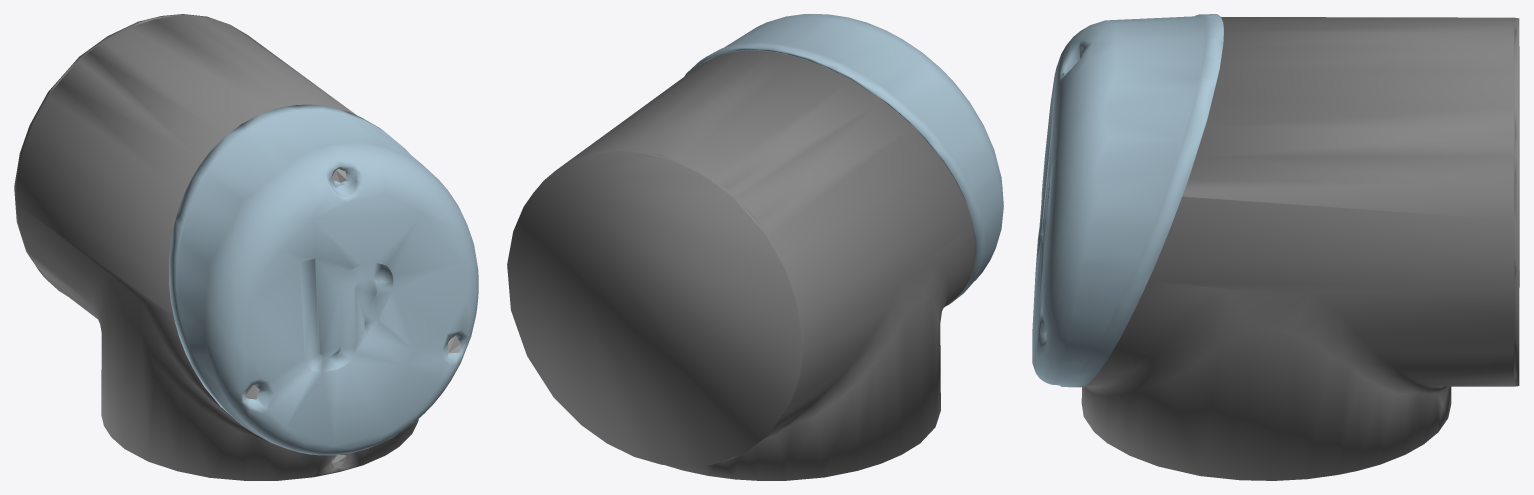
The model's file is wrist2.dae.
The picture shows the model from 3 angles, left to right: view 1: azimuth 30°, elevation 25°; view 2: azimuth 150°, elevation 25°; view 3: azimuth 270°, elevation 25°; orthographic projection. The views are drawn at different scales.
Visible parts, largest first — view 1: node-shape1-name, node-shape0-name, node-shape2-name; view 2: node-shape0-name, node-shape1-name; view 3: node-shape0-name, node-shape1-name.
Boxes of the visible parts, x1,y1,x2,y2 form: node-shape1-name: [169, 104, 478, 455]; node-shape0-name: [14, 14, 418, 480]; node-shape2-name: [245, 169, 460, 468]; node-shape0-name: [507, 50, 975, 480]; node-shape1-name: [684, 14, 1003, 305]; node-shape0-name: [1081, 17, 1519, 480]; node-shape1-name: [1032, 14, 1223, 387].
Bounding box in the file's own units: 0.0909 × 0.1187 × 0.0999.
